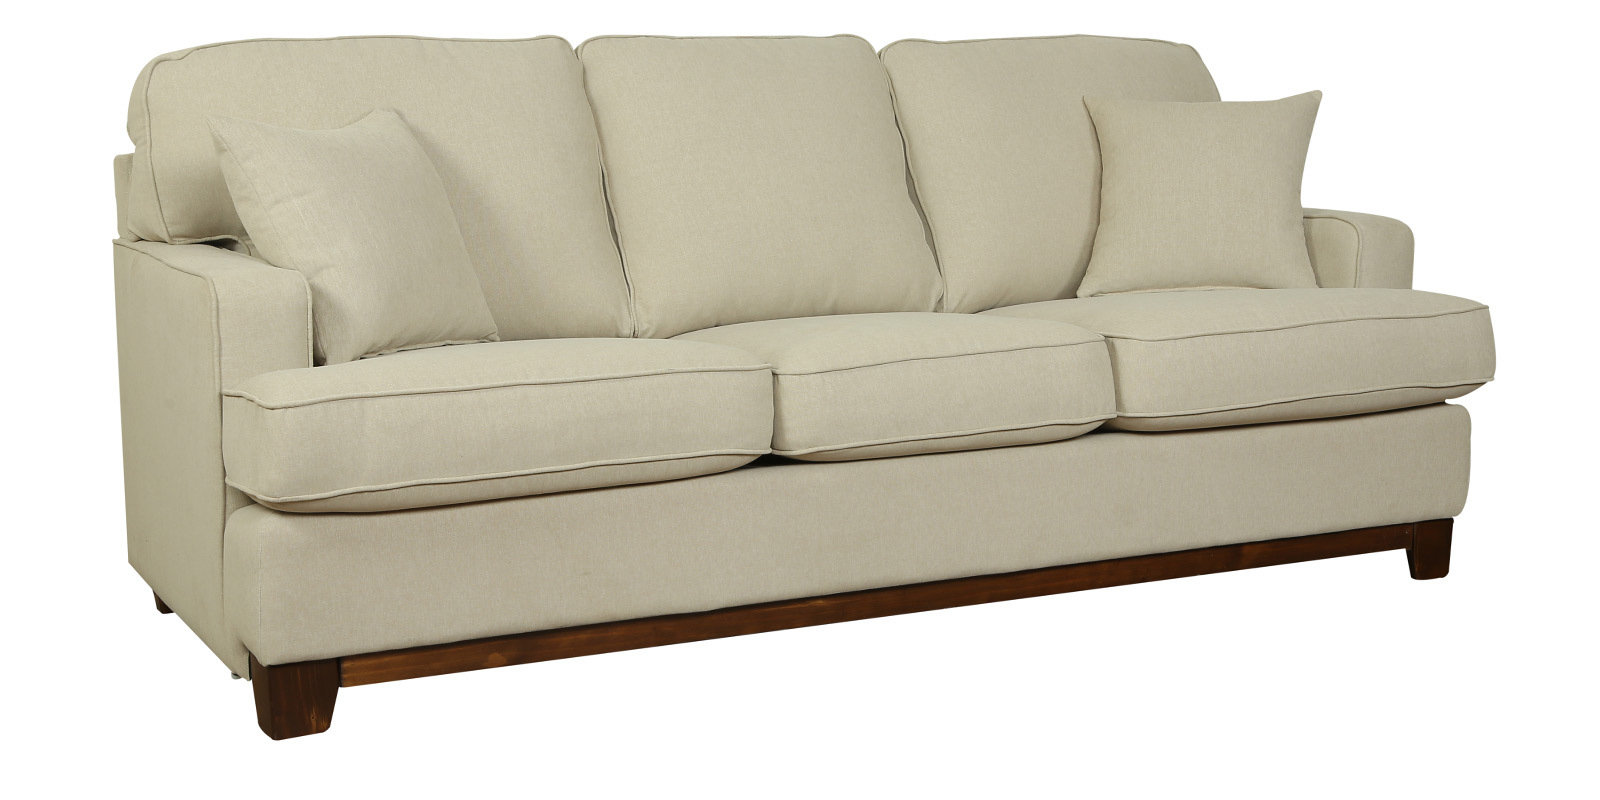Parana Three Seater Sofa in Beige Color by CasaCraft: (111, 32, 1497, 739)
